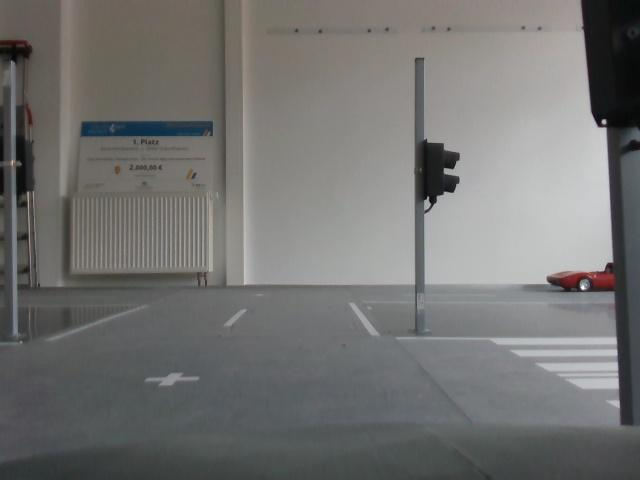car: (553, 254, 620, 297)
traffic light: (413, 140, 464, 207)
